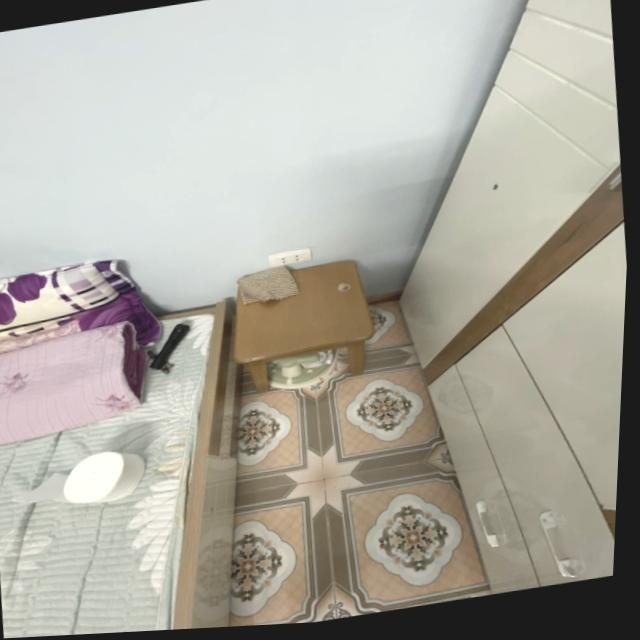outlet: (266, 246, 312, 268)
